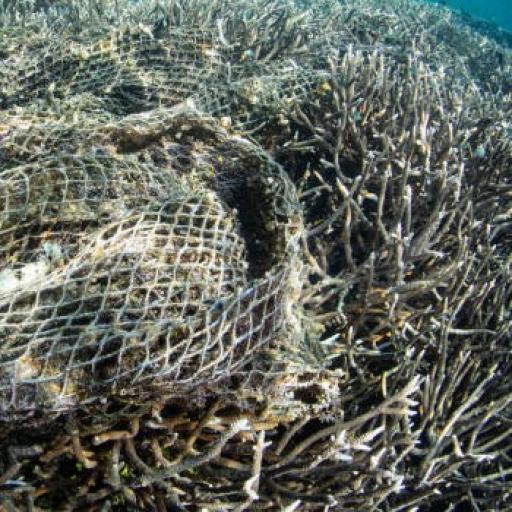net: (1, 28, 308, 425)
